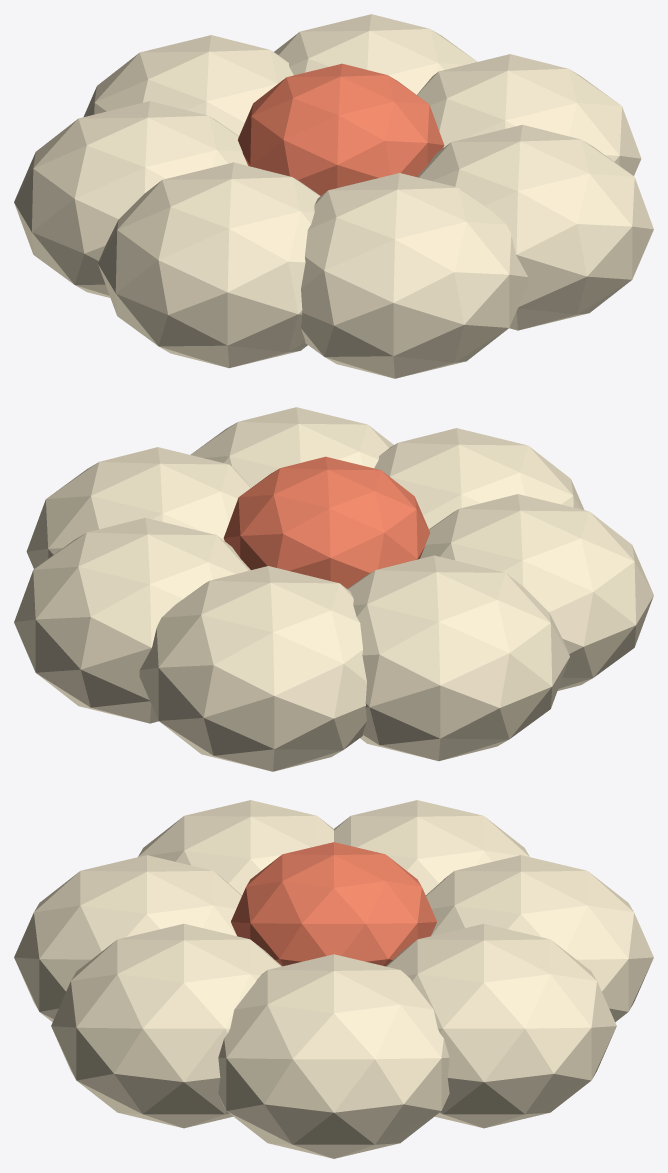
File: lily_pads_blossom.glb
3 renders of one model, top to bottom at view 1: azimuth 30°, elevation 25°; view 2: azimuth 150°, elevation 25°; view 3: azimuth 270°, elevation 25°, orthographic.
Visible parts, largest first — view 1: cream, coral; view 2: cream, coral; view 3: cream, coral.
Part boxes in pixels (x1,y1,x2,y2): cream: (14, 14, 653, 378); coral: (238, 63, 444, 195); cream: (14, 407, 653, 771); coral: (223, 456, 429, 588); cream: (14, 800, 653, 1158); coral: (231, 842, 436, 966).
Size of what is drawn, in the model's own units: 0.2136 by 0.077 by 0.2167.
